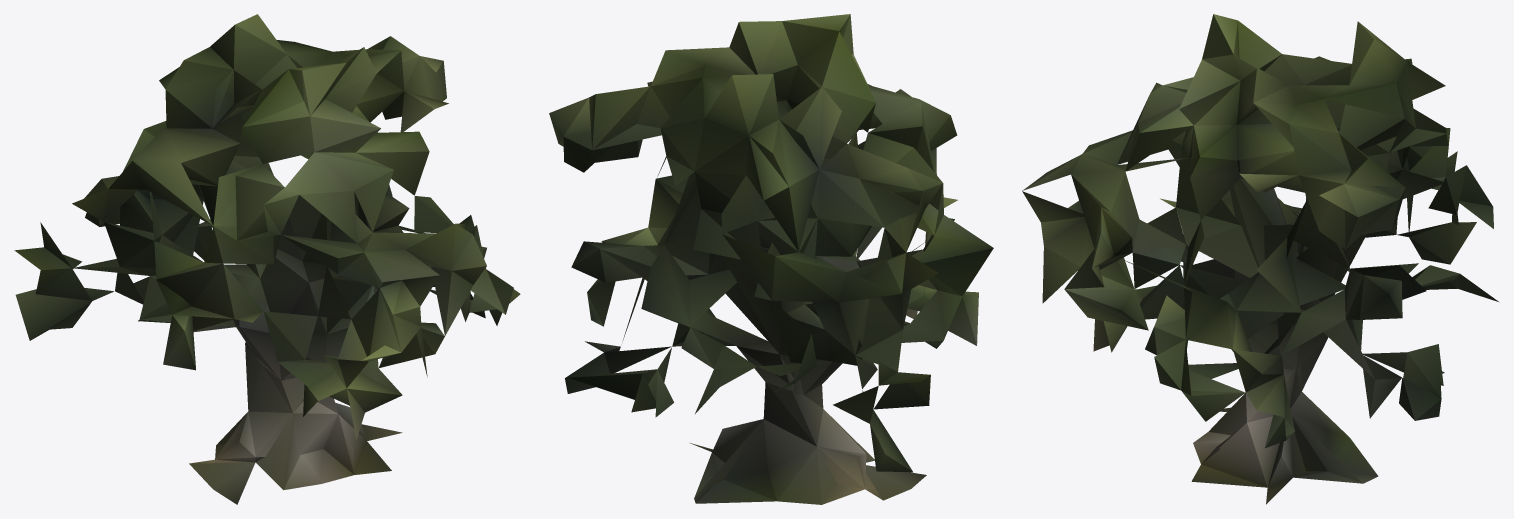
File: tree-mango.glb
3 renders of one model, left to right at view 1: azimuth 30°, elevation 25°; view 2: azimuth 150°, elevation 25°; view 3: azimuth 270°, elevation 25°, orthographic. The views are drawn at different scales.
Bounding box in the file's own units: 1.7 × 1.74 × 1.75.
